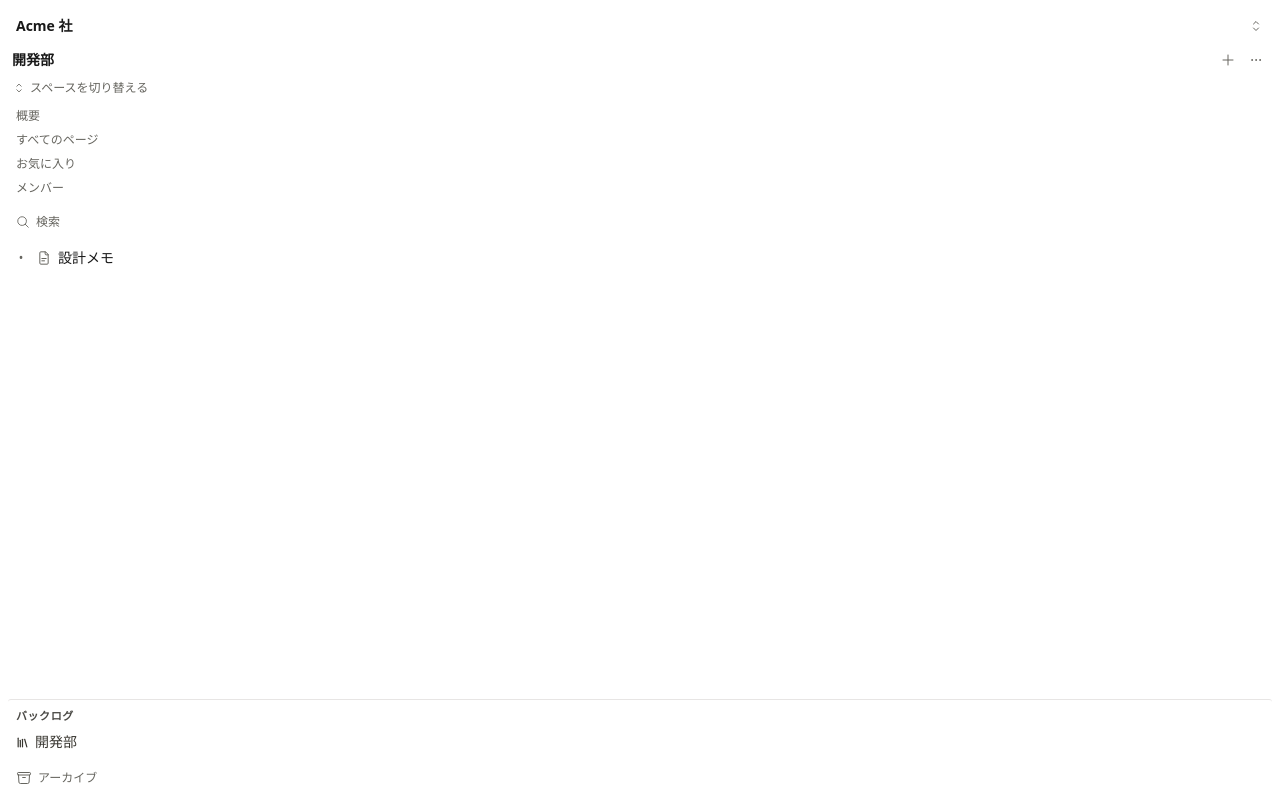
題名で検索（モーダル） › 入力すると少し待ってからサーバーに問い合わせ、結果がスペースの見出し付きで出る
Expected: the text "設計メモ" is shown, [58,248,114,268]
Click the button "検索": (23, 222) [8,208,1272,236]
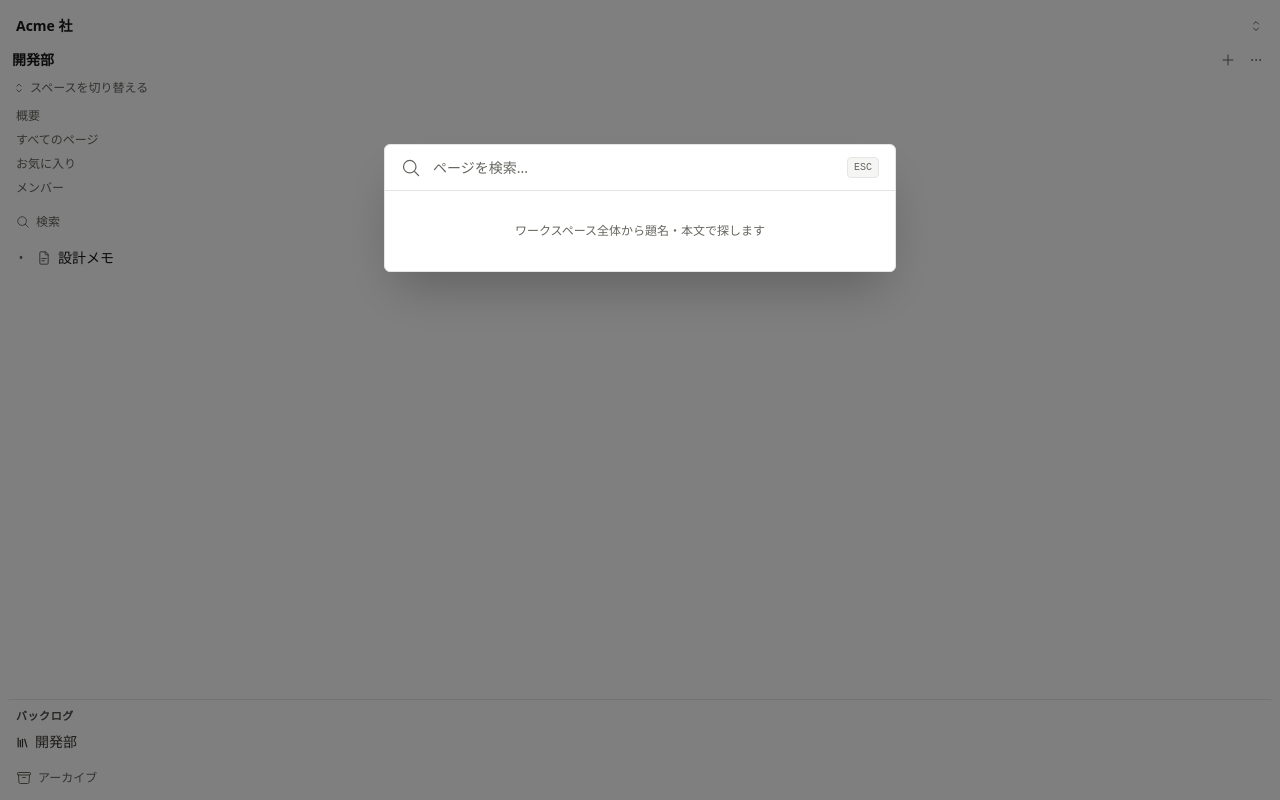
In the dropdown named "ページを題名・本文で検索": (634, 168) [433,158,835,178], type "ヒット"
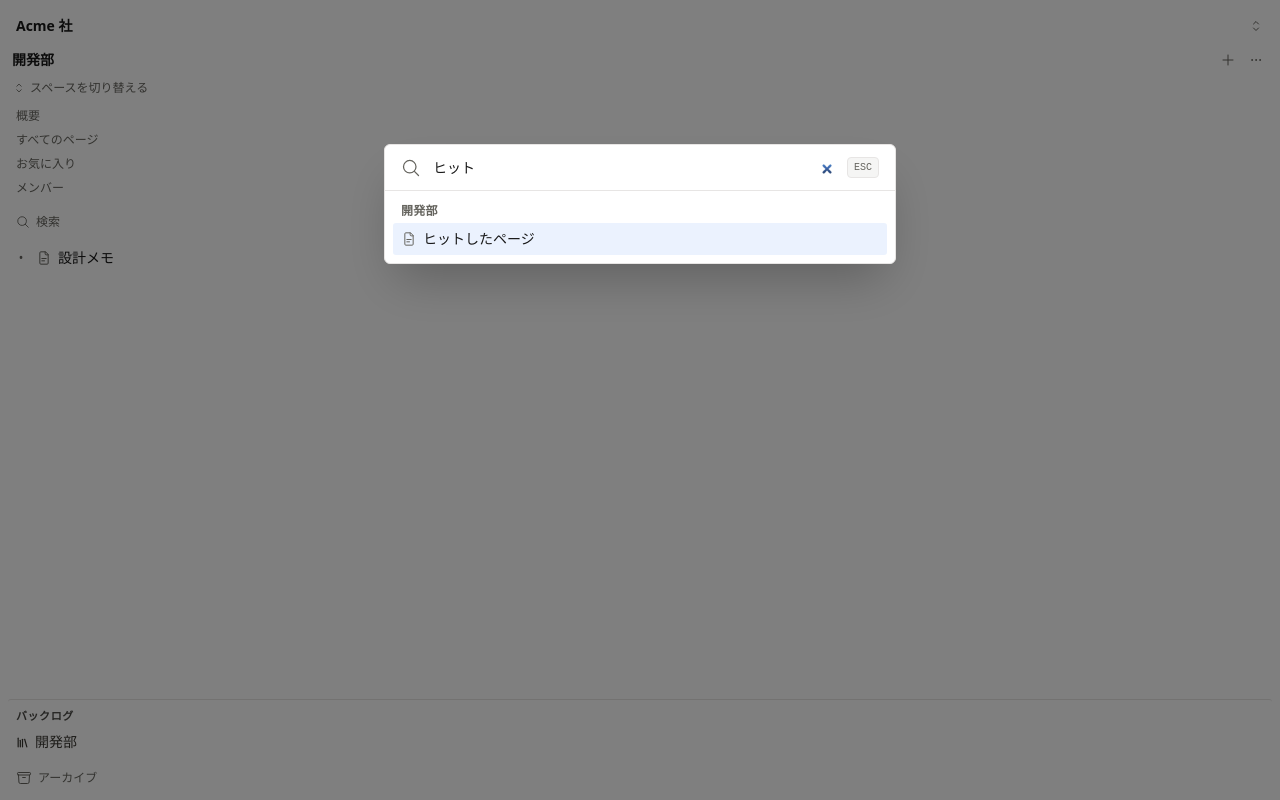
Expected: the text "ヒットしたページ" is shown, [423,229,535,248]
Expected: the heading "開発部" is shown, [401,202,438,219]
